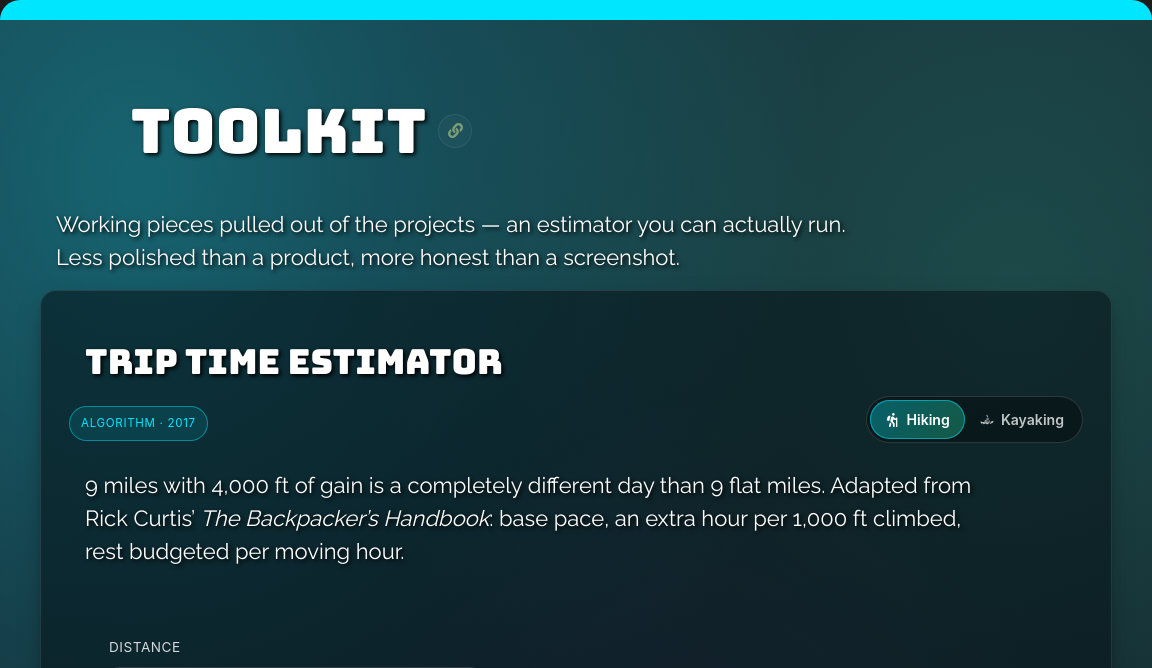
Toolkit kayaking mode › always shows the education-only disclaimer, in both modes
The width and height of the screenshot is (1152, 668).
Click the button with class "toolkit-mode-btn" showing "Kayaking". click: (1022, 420)
box: [965, 400, 1079, 439]
(page scrolled)
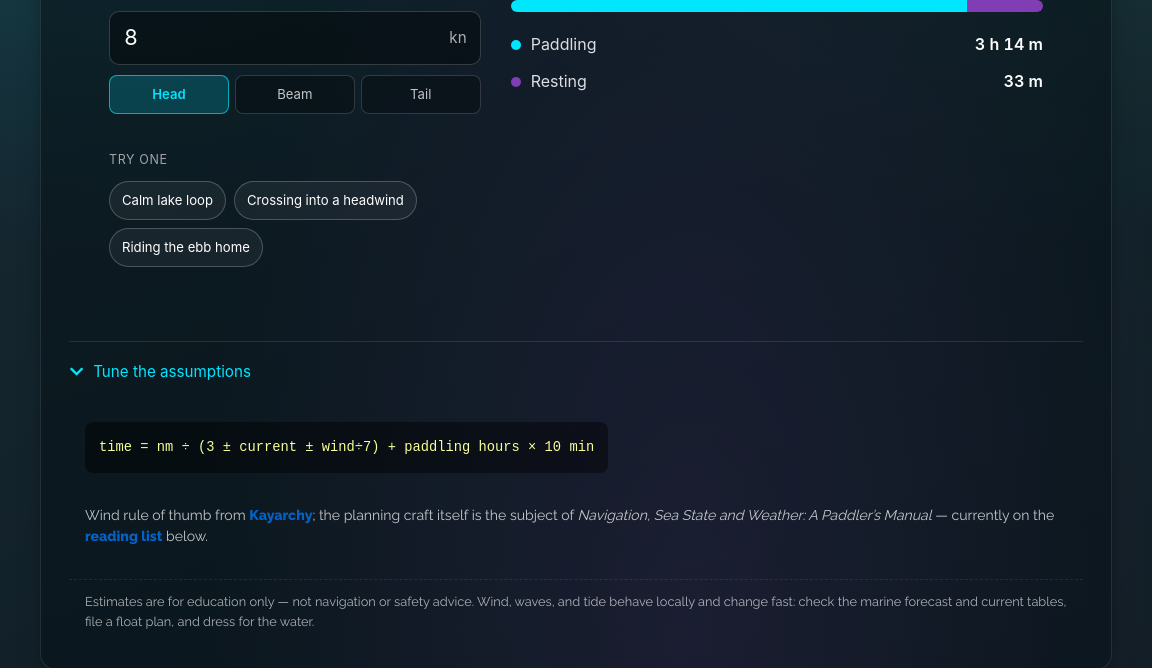
Expected: the text with class "toolkit-disclaimer" shows "not navigation or safety advice", [85, 594, 1066, 629]
